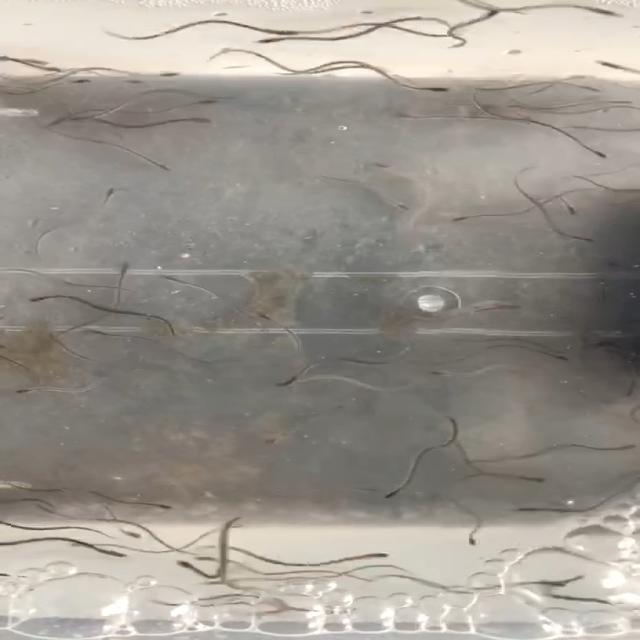active_glass_eel: (252, 14, 300, 42), (99, 184, 154, 208), (434, 210, 494, 232), (377, 195, 425, 221), (148, 554, 204, 574), (244, 310, 304, 328), (154, 272, 198, 296), (174, 114, 230, 132), (42, 62, 90, 82), (169, 91, 225, 108), (578, 145, 624, 165), (100, 252, 144, 272), (372, 480, 412, 502), (430, 39, 502, 51), (490, 100, 550, 114), (246, 33, 295, 50), (560, 202, 596, 223), (418, 75, 451, 97), (28, 291, 61, 311), (458, 526, 488, 548), (266, 372, 294, 394), (154, 496, 188, 514), (150, 170, 188, 186), (564, 232, 601, 248), (377, 109, 423, 121), (9, 381, 41, 398), (511, 503, 538, 521), (70, 76, 98, 92), (158, 68, 190, 82), (426, 366, 454, 382), (516, 468, 544, 484), (609, 442, 637, 458), (104, 546, 132, 560), (580, 84, 608, 97), (554, 344, 572, 362), (47, 485, 75, 496)
